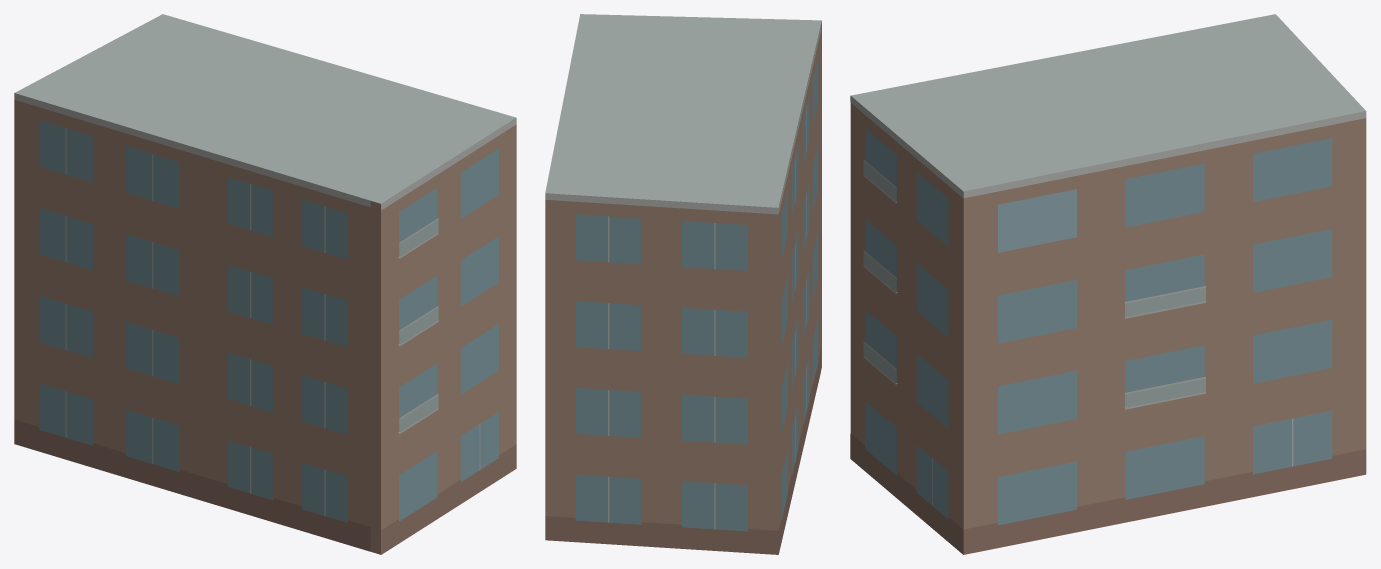
File: survey-upis-32702142.glb
The picture shows the model from 3 angles, left to right: view 1: azimuth 30°, elevation 25°; view 2: azimuth 150°, elevation 25°; view 3: azimuth 270°, elevation 25°; orthographic projection. The views are drawn at different scales.
Parts seen in each view (by area): view 1: survey-upis-32702142.tmp; view 2: survey-upis-32702142.tmp; view 3: survey-upis-32702142.tmp.
Boxes of the visible parts, x1,y1,x2,y2 form: survey-upis-32702142.tmp: (14,14,516,554); survey-upis-32702142.tmp: (545,14,821,554); survey-upis-32702142.tmp: (850,14,1366,554).
Size of the model in its own units: 13.42 by 12.8 by 16.48.
